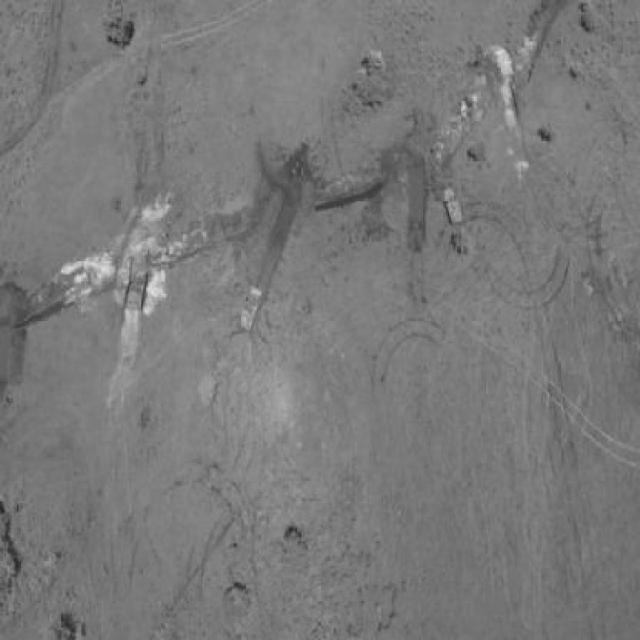Vehicle: (240, 283, 264, 331), (128, 266, 151, 311), (444, 187, 467, 224)
